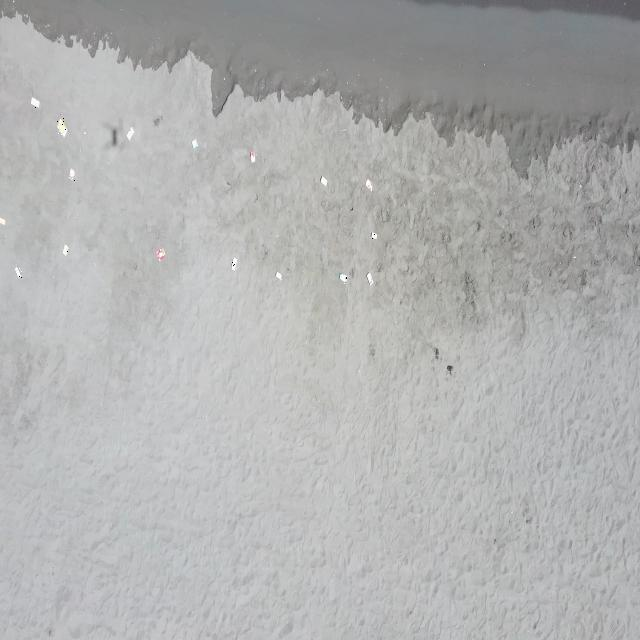Garbage: (56, 116, 67, 136), (125, 127, 134, 140), (155, 247, 164, 260), (364, 179, 372, 191), (13, 266, 22, 276), (32, 96, 39, 107), (68, 168, 74, 180), (249, 151, 255, 163), (433, 347, 439, 359), (320, 176, 327, 186), (62, 244, 68, 255), (231, 258, 236, 270), (367, 272, 372, 284), (192, 139, 198, 148), (340, 272, 346, 281), (447, 364, 452, 373), (371, 232, 376, 239), (276, 272, 280, 279), (0, 216, 3, 224), (81, 129, 84, 134), (572, 255, 575, 259)
